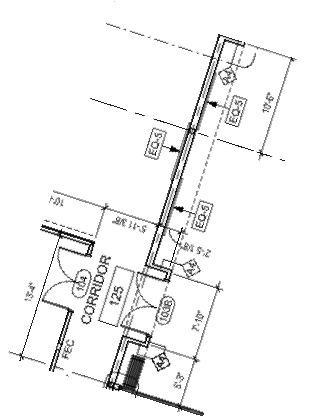double door: (116, 265, 171, 338), (39, 246, 93, 317)
